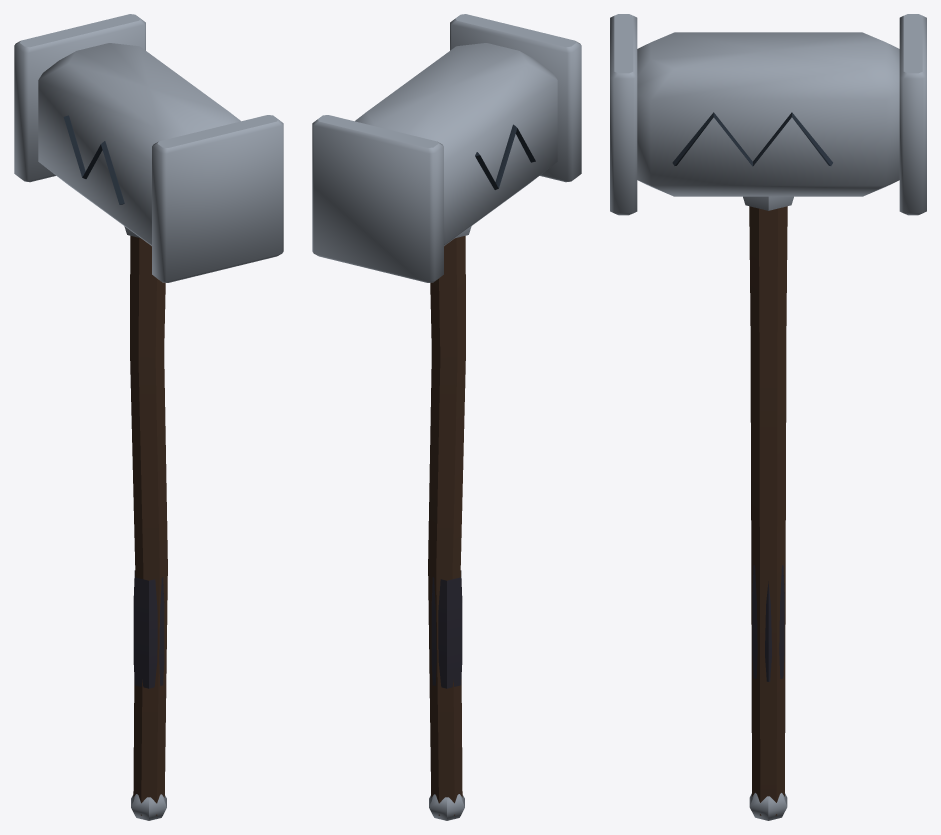
The model's file is warhammer-rune.glb.
The picture shows the model from 3 angles, left to right: view 1: azimuth 30°, elevation 25°; view 2: azimuth 150°, elevation 25°; view 3: azimuth 270°, elevation 25°; orthographic projection. The views are drawn at different scales.
Parts seen in each view (by area): view 1: warhammer-rune; view 2: warhammer-rune; view 3: warhammer-rune.
Boxes of the visible parts, x1=… form: warhammer-rune: x1=14, y1=14, x2=283, y2=820; warhammer-rune: x1=312, y1=14, x2=581, y2=820; warhammer-rune: x1=610, y1=14, x2=926, y2=820.
Bounding box in the file's own units: 0.19 × 1.09 × 0.405.
